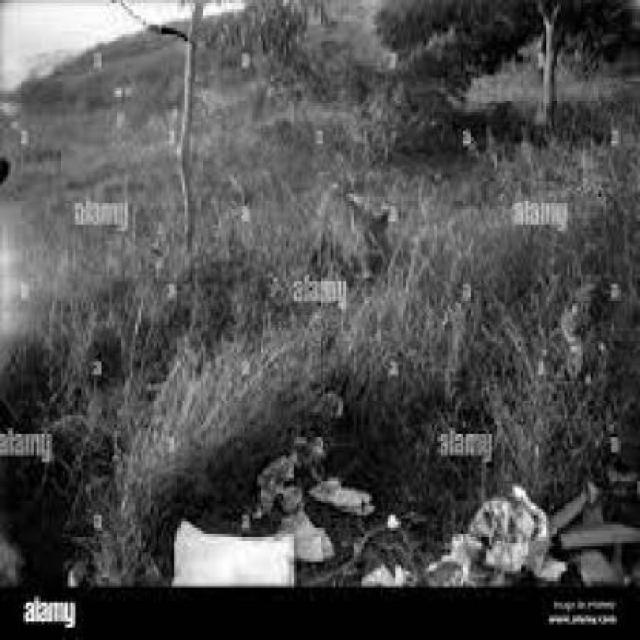wildboar: (298, 178, 399, 310)
